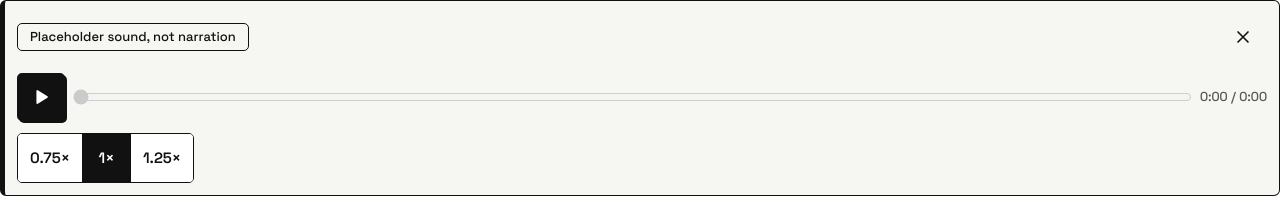
Test: AudioPlayer › does not start on its own, and plays and pauses from one button
This screenshot has width=1280, height=213.
Click the button named "Play narration".
click(41, 97)  # box left=17, top=73, right=65, bottom=121
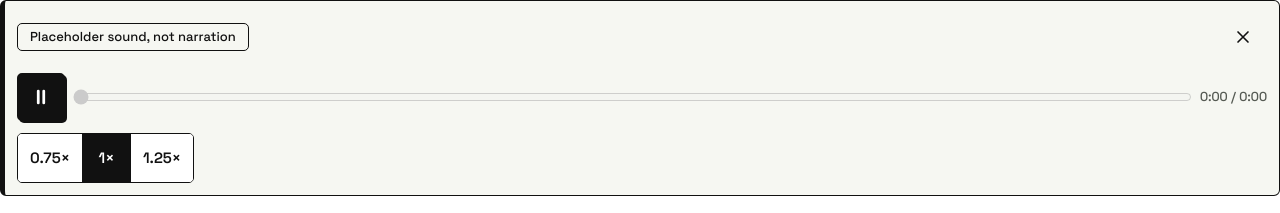
Click the button named "Pause narration".
click(41, 97)  # box left=17, top=73, right=65, bottom=121
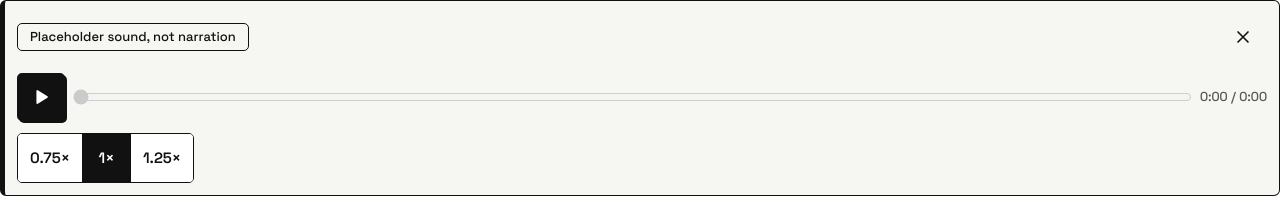
Expected: the button named "Play narration" is shown, left=17, top=73, right=65, bottom=121
